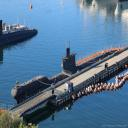submarine: (11, 49, 118, 106)
